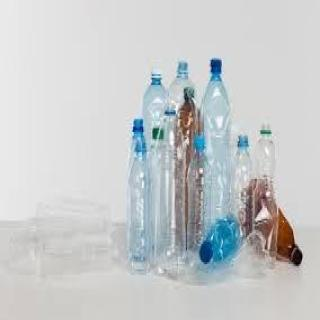Plastic-bottle: (156, 106, 192, 281), (202, 57, 237, 222), (254, 119, 282, 271), (127, 137, 153, 276), (196, 207, 242, 270), (189, 129, 213, 249), (234, 130, 257, 253), (275, 196, 305, 272), (142, 66, 170, 140), (167, 61, 202, 115)
